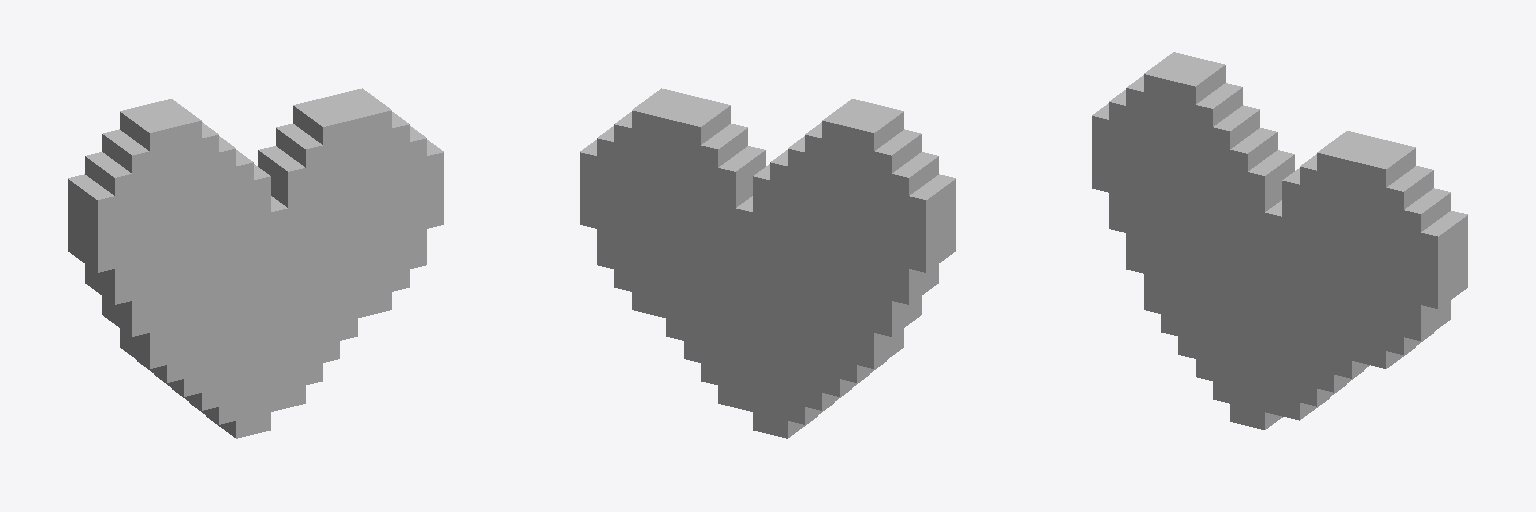
The model's file is emoji projectile.obj.
3 views of the same model, side by side, from view 1: azimuth 30°, elevation 25°; view 2: azimuth 150°, elevation 25°; view 3: azimuth 330°, elevation 25° (orthographic).
Parts seen in each view (by area): view 1: object 1; view 2: object 1; view 3: object 1.
Part boxes in pixels (x1,y1,x2,y2): object 1: (68, 88, 443, 438); object 1: (580, 88, 955, 438); object 1: (1092, 52, 1467, 429).
Size of the model in its own units: 2 by 1.8 by 0.3.